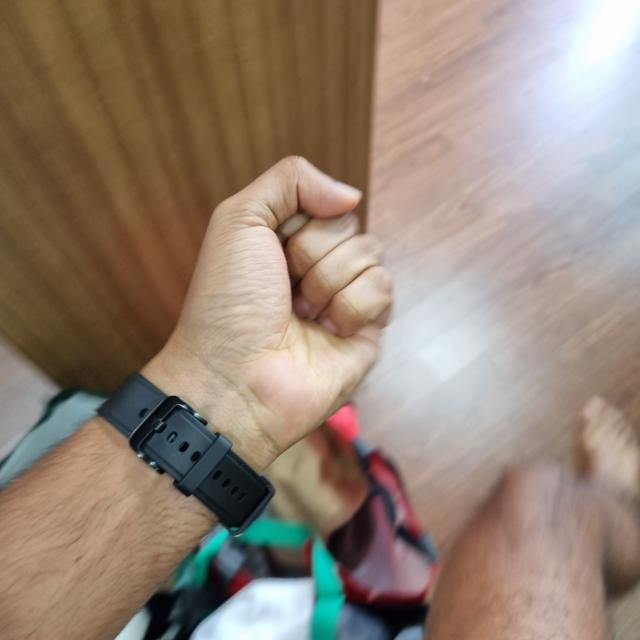Rock: (153, 160, 636, 639)
